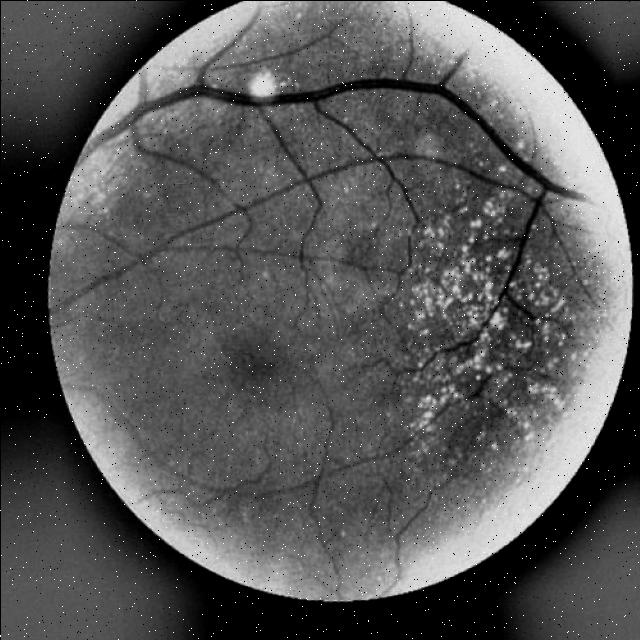Nerves: (69, 78, 582, 362)
